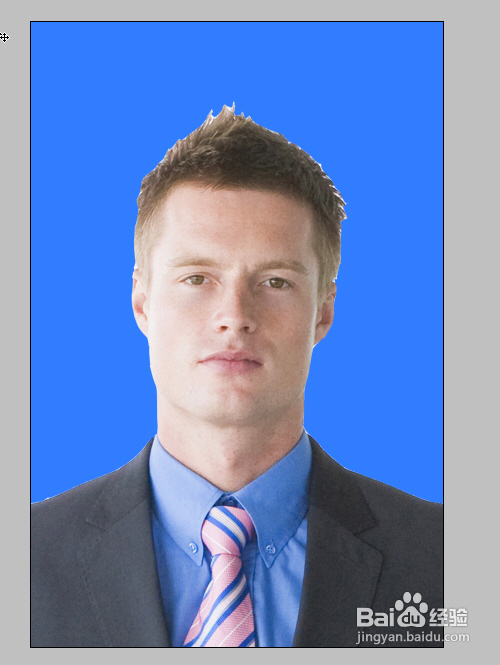unmask: (153, 190, 316, 430)
